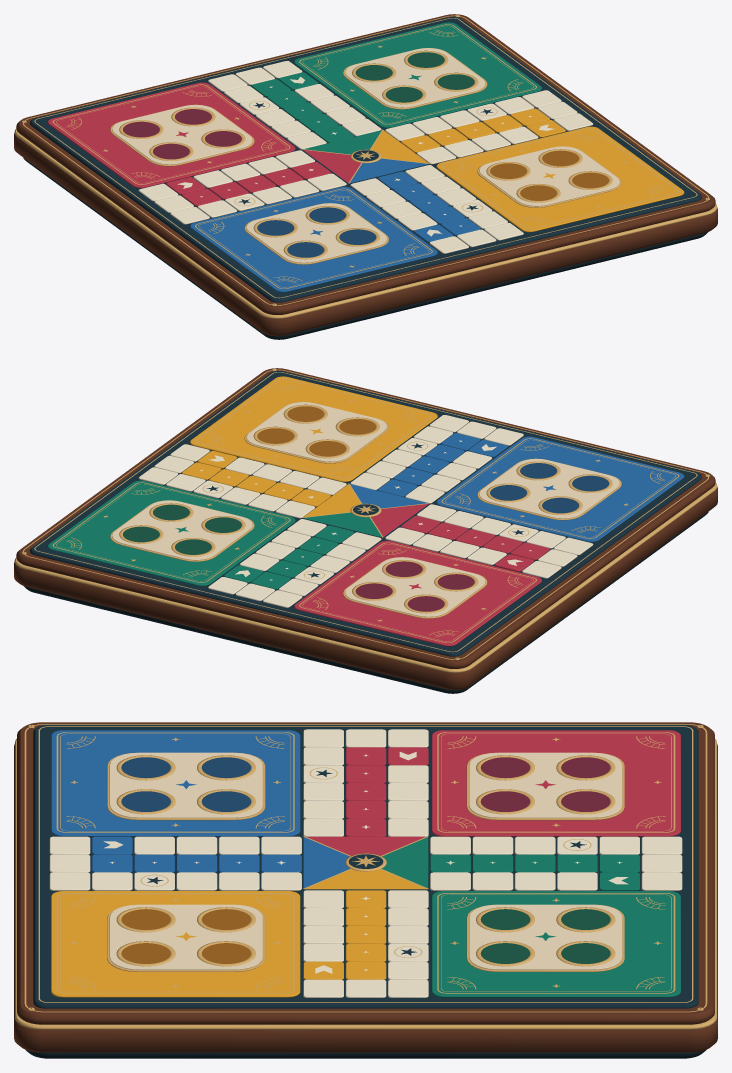
Rendered from MidnightBoard.glb.
3 renders of one model, top to bottom at view 1: azimuth 30°, elevation 25°; view 2: azimuth 150°, elevation 25°; view 3: azimuth 270°, elevation 25°, orthographic. The views are drawn at different scales.
Visible parts, largest first — view 1: Board | Midnight Classic; view 2: Board | Midnight Classic; view 3: Board | Midnight Classic.
Boxes of the visible parts, left/top/right/bottom form: Board | Midnight Classic: left=14, top=14, right=717, bottom=339; Board | Midnight Classic: left=14, top=368, right=717, bottom=693; Board | Midnight Classic: left=14, top=722, right=717, bottom=1058.
Size of the model in its own units: 16.65 by 1.45 by 16.65.
